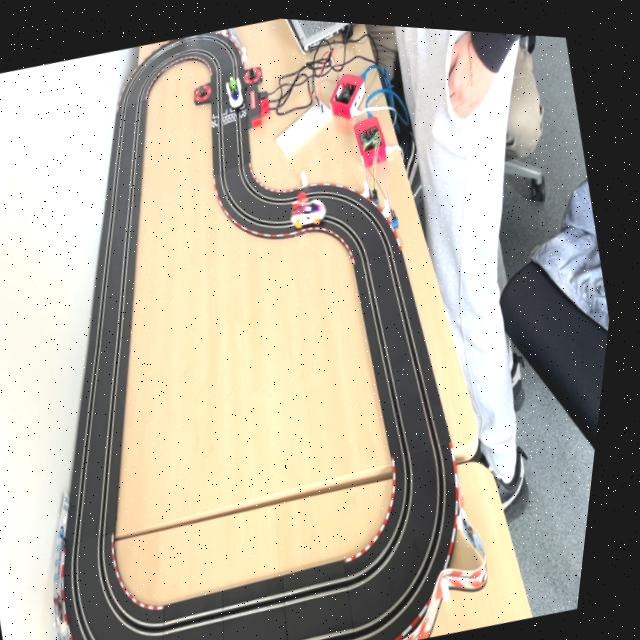mario: (288, 187, 337, 227)
yoshi: (222, 68, 251, 108)
